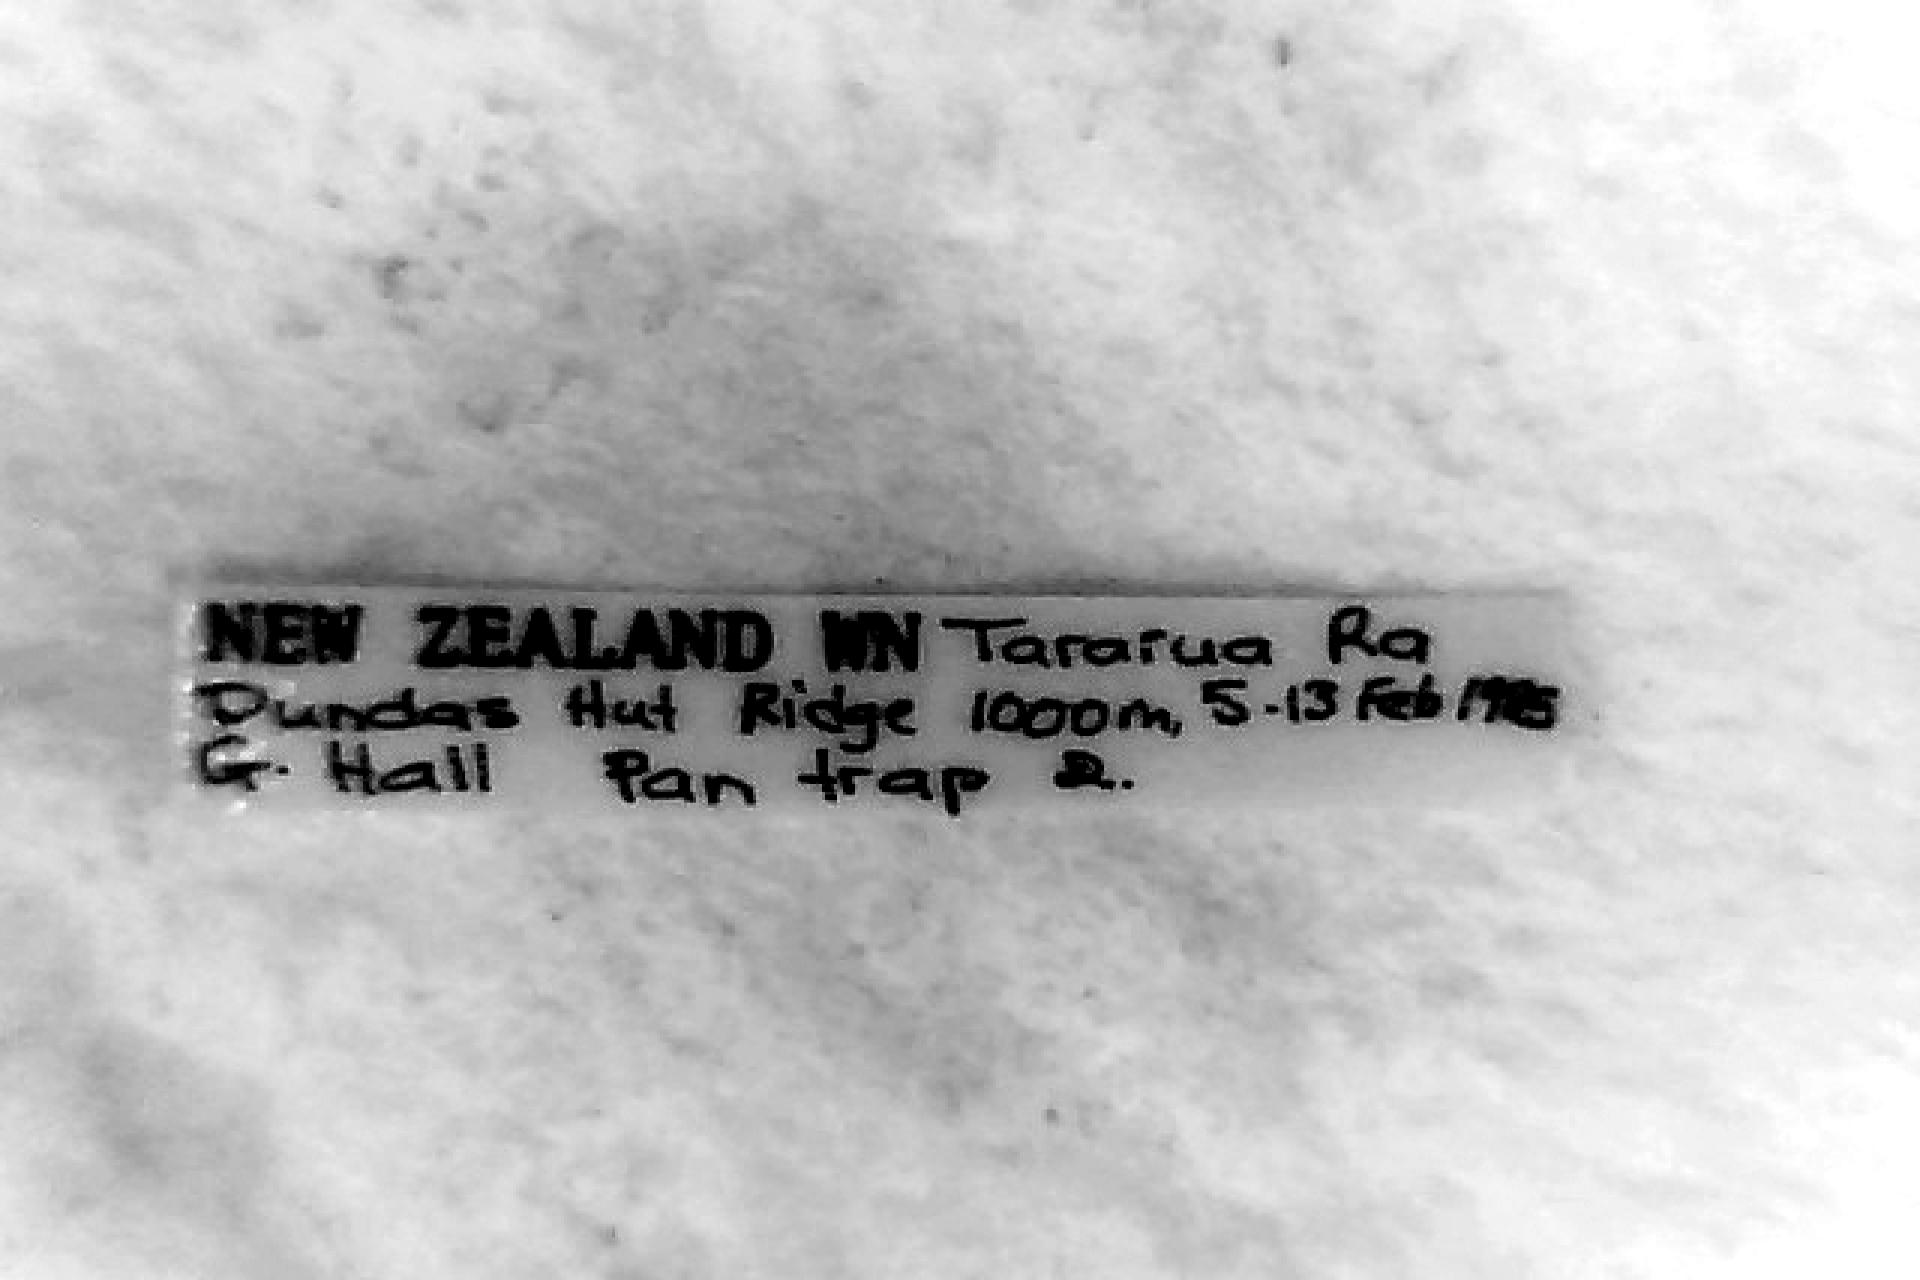mixed_label: (176, 583, 1586, 814)
